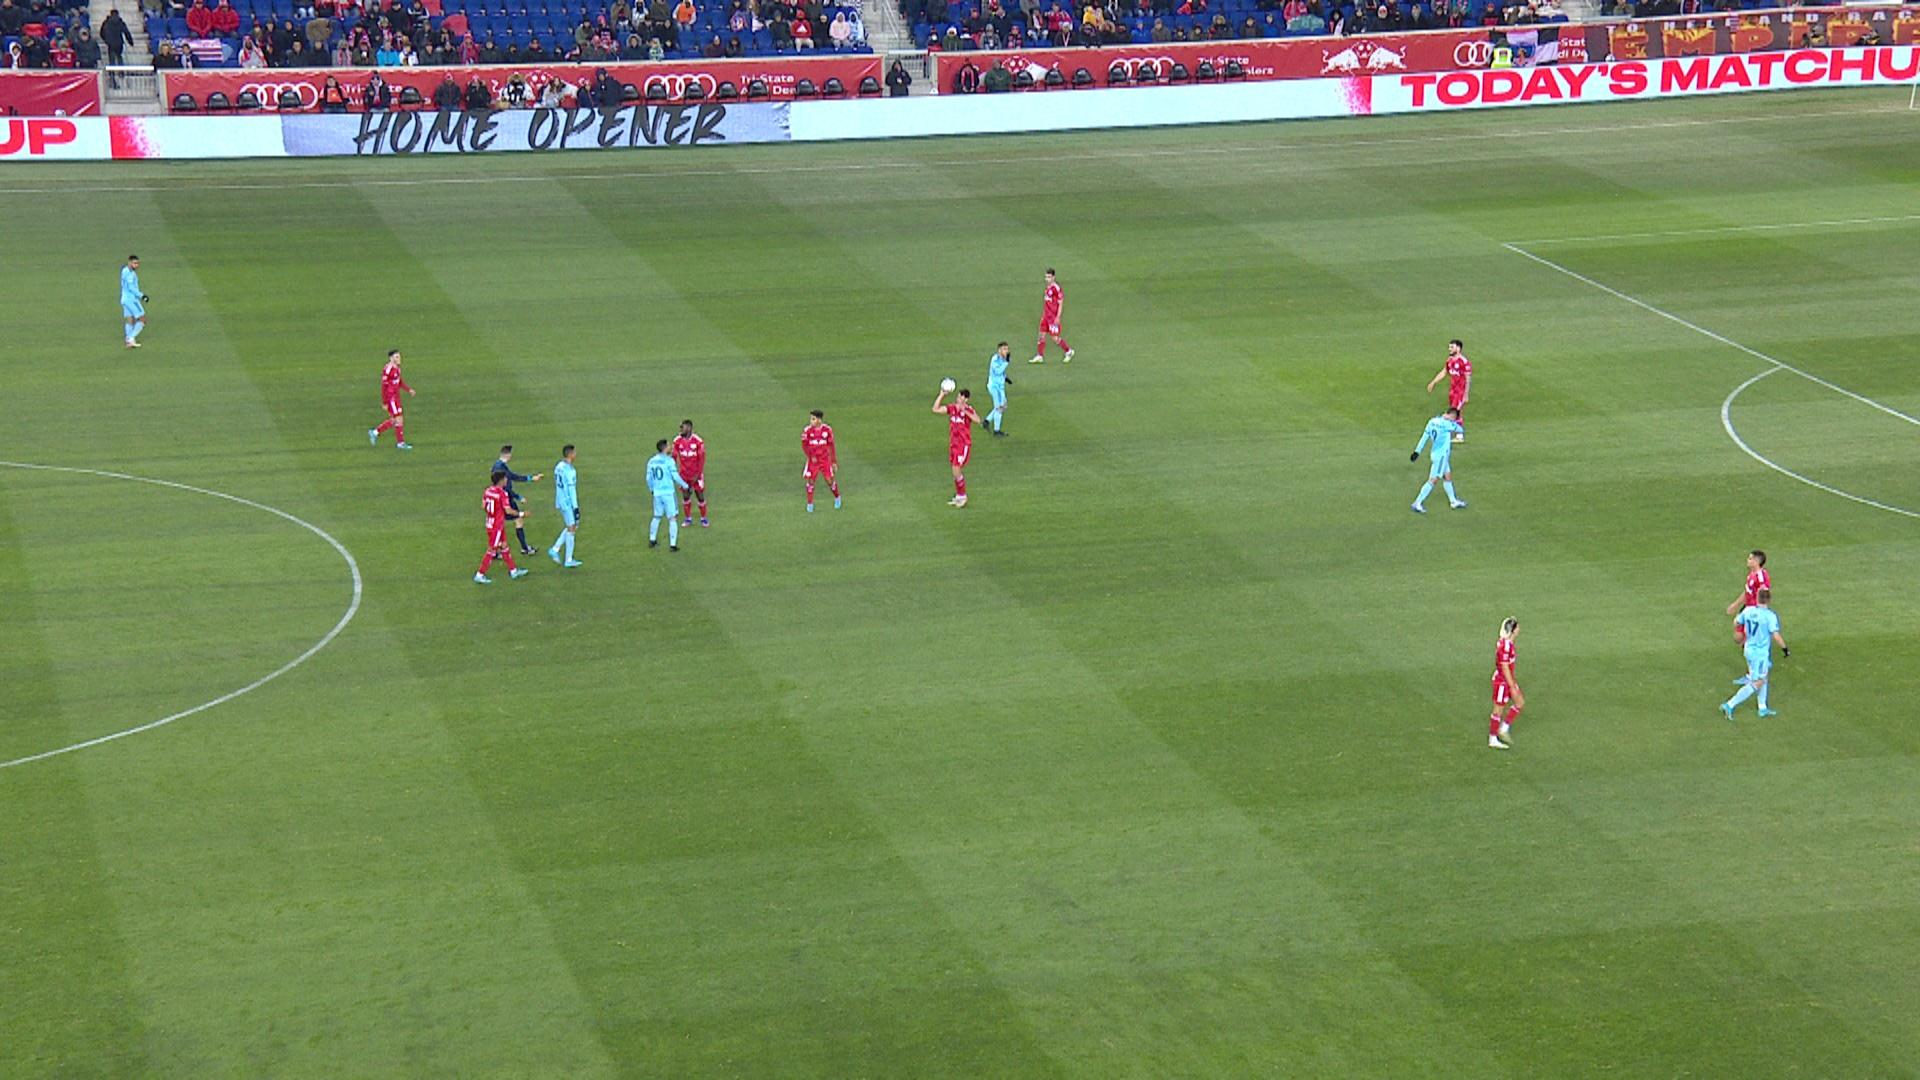football: (939, 376, 957, 390)
